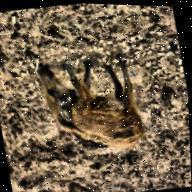boar: (35, 56, 156, 154)
